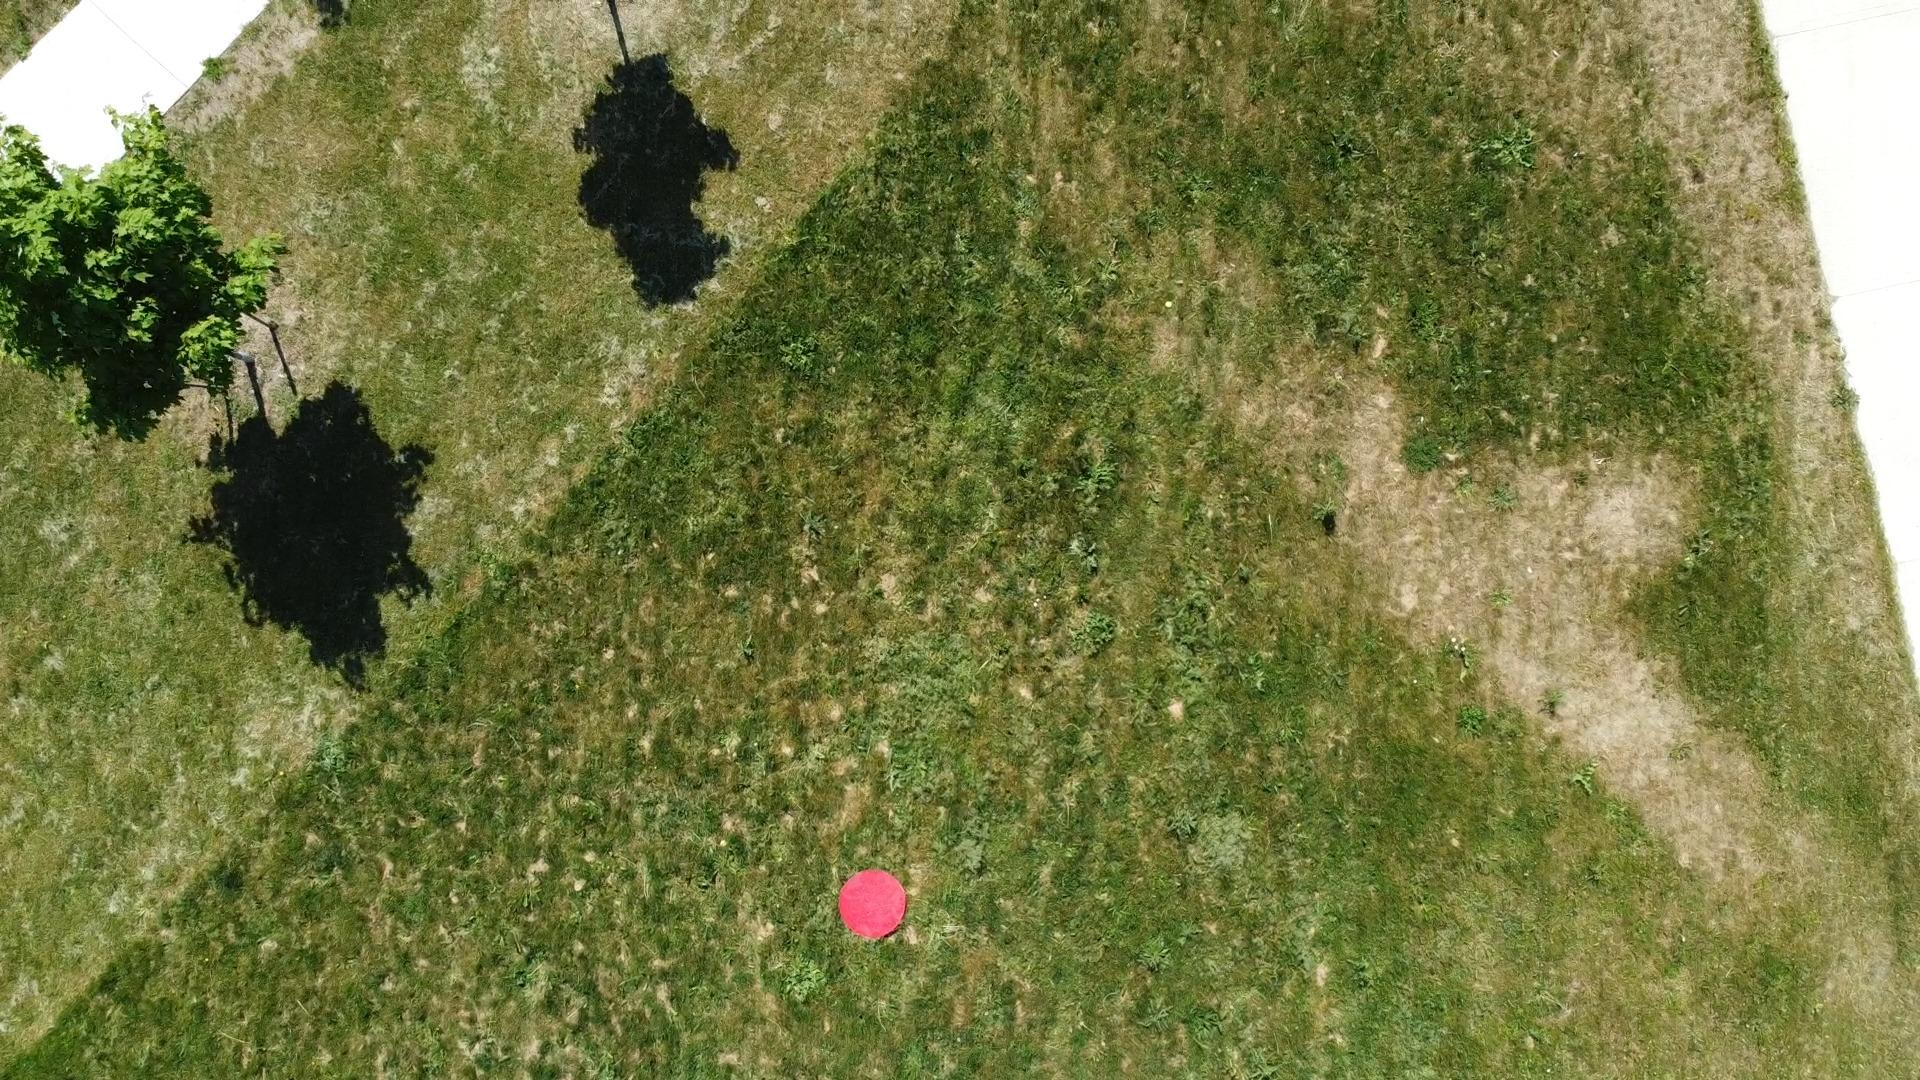Red: (836, 866, 910, 942)
